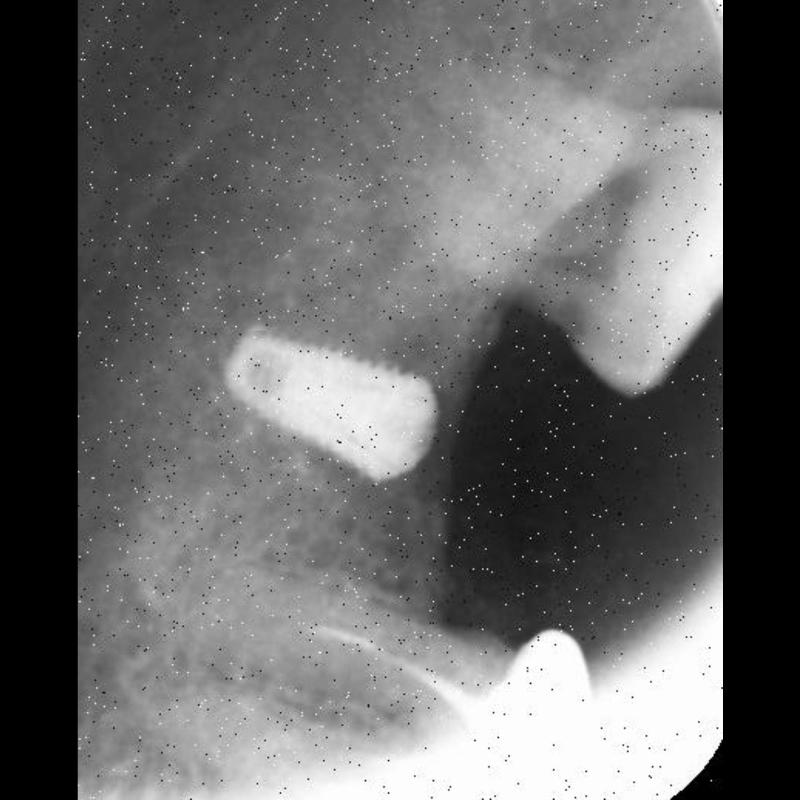Dentium: (218, 320, 447, 496)
